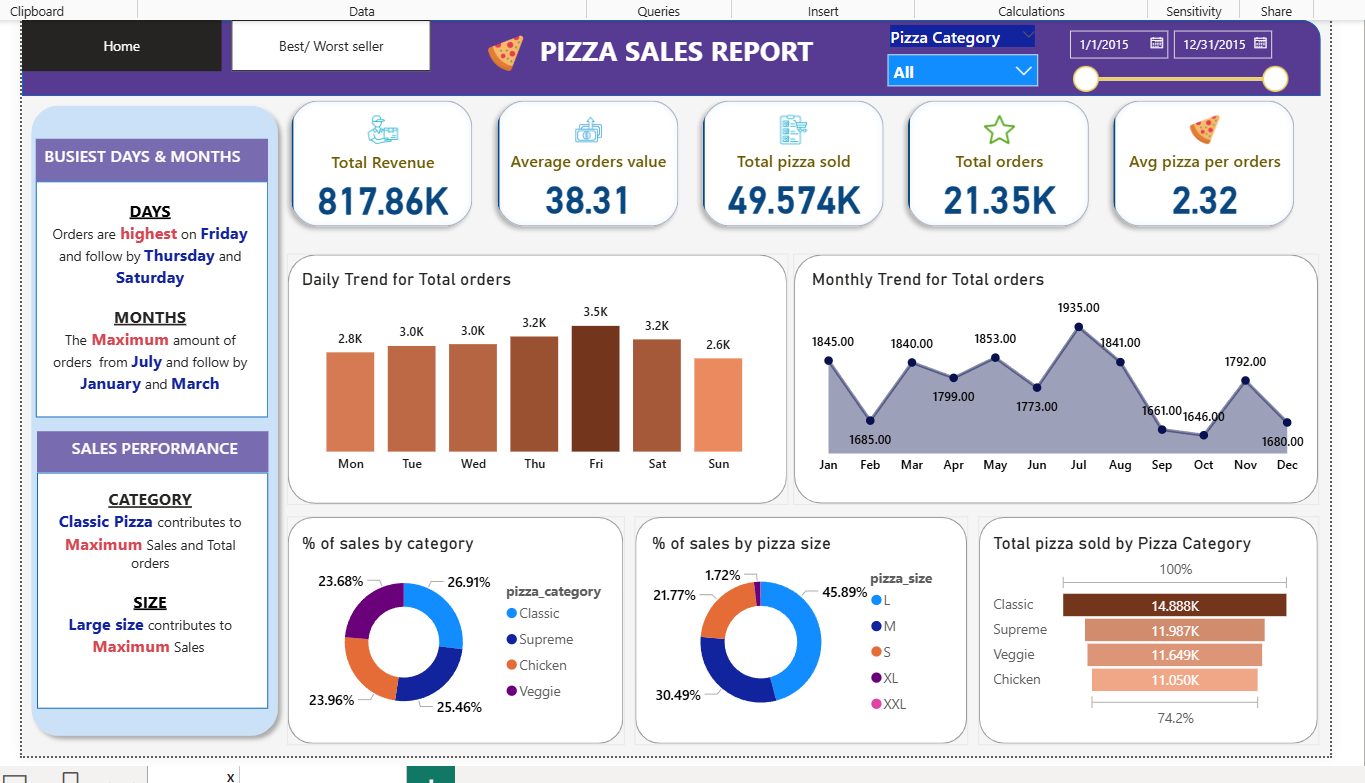

The page's visual inventory and layout, read from the dashboard file:
{"tool":"powerbi","page":{"name":"Home","canvas":[1280,720],"ordinal":0},"visuals":[{"type":"cardVisual","fields":{"Data":["pizza_sales.Total Revenue","pizza_sales.Average orders value","pizza_sales.Total pizza sold","pizza_sales.Total orders","pizza_sales.Avg pizza per orders"]},"box":[250.7,66,1008.8,149.2],"z":0},{"type":"shape","box":[0,0,1270.5,74.6],"z":1000},{"type":"textbox","box":[454.2,5.6,373.6,52.8],"z":2000},{"type":"image","box":[316.7,9.7,312.5,45.8],"z":3000},{"type":"shape","box":[259.2,228.7,490.4,245.8],"z":4000},{"type":"clusteredColumnChart","title":"Daily Trend for Total orders","fields":{"Category":["pizza_sales.Day Order_Date"],"Y":["pizza_sales.Total orders"]},"box":[269,243.3,465.9,209.1],"z":5000},{"type":"shape","box":[754.7,229.2,514.6,245.6],"z":6000},{"type":"areaChart","title":"Monthly Trend for Total orders","fields":{"Y":["pizza_sales.Total orders"],"Category":["pizza_sales.Month_Name"]},"box":[768.4,242.9,491.3,209.9],"z":7000},{"type":"shape","box":[259.2,485.5,330.2,223.8],"z":8000},{"type":"shape","box":[599.2,485.5,326.5,223.8],"z":9000},{"type":"shape","box":[935.9,485.8,333.4,223.7],"z":10000},{"type":"donutChart","title":"% of sales by category","fields":{"Category":["pizza_sales.pizza_category"],"Y":["pizza_sales.Total Revenue"]},"box":[269,501.4,309.4,195.7],"z":11000},{"type":"donutChart","title":"% of sales by pizza size","fields":{"Category":["pizza_sales.pizza_size"],"Y":["pizza_sales.Total Revenue"]},"box":[611.4,501.4,303.3,195.7],"z":12000},{"type":"shape","box":[0,74.6,259.2,634.7],"z":13000},{"type":"funnel","title":"Total pizza sold by Pizza Category","fields":{"Y":["pizza_sales.Total pizza sold"],"Category":["pizza_sales.pizza_category"]},"box":[945.5,500.9,301.9,196.2],"z":14000},{"type":"textbox","box":[13.5,116.2,227.4,41.6],"z":15000},{"type":"shape","box":[13.5,157.7,227.4,231.1],"z":16000},{"type":"textbox","box":[18.3,170,214,207.9],"z":17000},{"type":"textbox","box":[14.7,402.3,226.2,40.4],"z":18000},{"type":"shape","box":[14.7,442.7,226.2,231.1],"z":19000},{"type":"textbox","box":[18.3,452.4,214,209.1],"z":20000},{"type":"pageNavigator","box":[0,0,400,50],"z":21000},{"type":"slicer","fields":{"Values":["pizza_sales.pizza_category"]},"box":[836.4,0,167.5,64.8],"z":22000},{"type":"slicer","fields":{"Values":["pizza_sales.order_date"]},"box":[1012.5,0,234.8,74.6],"z":23000}]}

Visuals, with their boxes on the page's 1280x720 design canvas (x1, y1, x2, y2). These are canvas units, not pixel positions in the 1365x783 screenshot, which may show the page scaled, cropped or inside an application window:
cardVisual - pizza_sales.Total Revenue x pizza_sales.Average orders value: bbox=(251, 66, 1260, 215)
shape: bbox=(0, 0, 1270, 75)
textbox: bbox=(454, 6, 828, 58)
image: bbox=(317, 10, 629, 56)
shape: bbox=(259, 229, 750, 474)
"Daily Trend for Total orders" clusteredColumnChart: bbox=(269, 243, 735, 452)
shape: bbox=(755, 229, 1269, 475)
"Monthly Trend for Total orders" areaChart: bbox=(768, 243, 1260, 453)
shape: bbox=(259, 486, 589, 709)
shape: bbox=(599, 486, 926, 709)
shape: bbox=(936, 486, 1269, 710)
"% of sales by category" donutChart: bbox=(269, 501, 578, 697)
"% of sales by pizza size" donutChart: bbox=(611, 501, 915, 697)
shape: bbox=(0, 75, 259, 709)
"Total pizza sold by Pizza Category" funnel: bbox=(946, 501, 1247, 697)
textbox: bbox=(14, 116, 241, 158)
shape: bbox=(14, 158, 241, 389)
textbox: bbox=(18, 170, 232, 378)
textbox: bbox=(15, 402, 241, 443)
shape: bbox=(15, 443, 241, 674)
textbox: bbox=(18, 452, 232, 662)
pageNavigator: bbox=(0, 0, 400, 50)
slicer - pizza_sales.pizza_category: bbox=(836, 0, 1004, 65)
slicer - pizza_sales.order_date: bbox=(1012, 0, 1247, 75)
